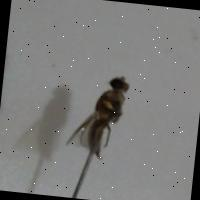Oriental-fruit-fly: (60, 47, 140, 167)
